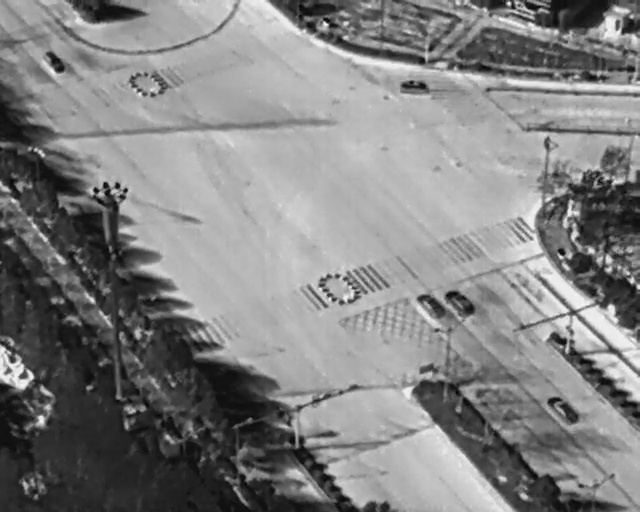Car: (544, 389, 582, 430), (441, 285, 477, 323), (416, 287, 447, 322), (41, 47, 67, 74), (399, 78, 431, 95)
